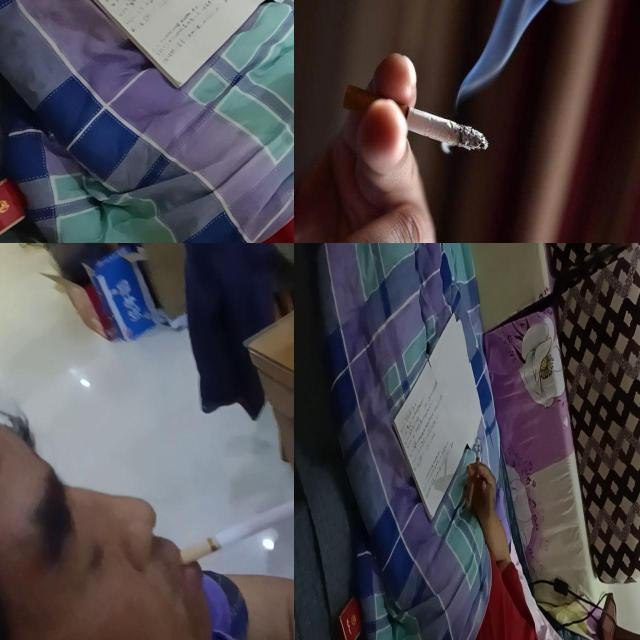smoking: (342, 82, 490, 152), (180, 492, 294, 566), (476, 444, 480, 478)
